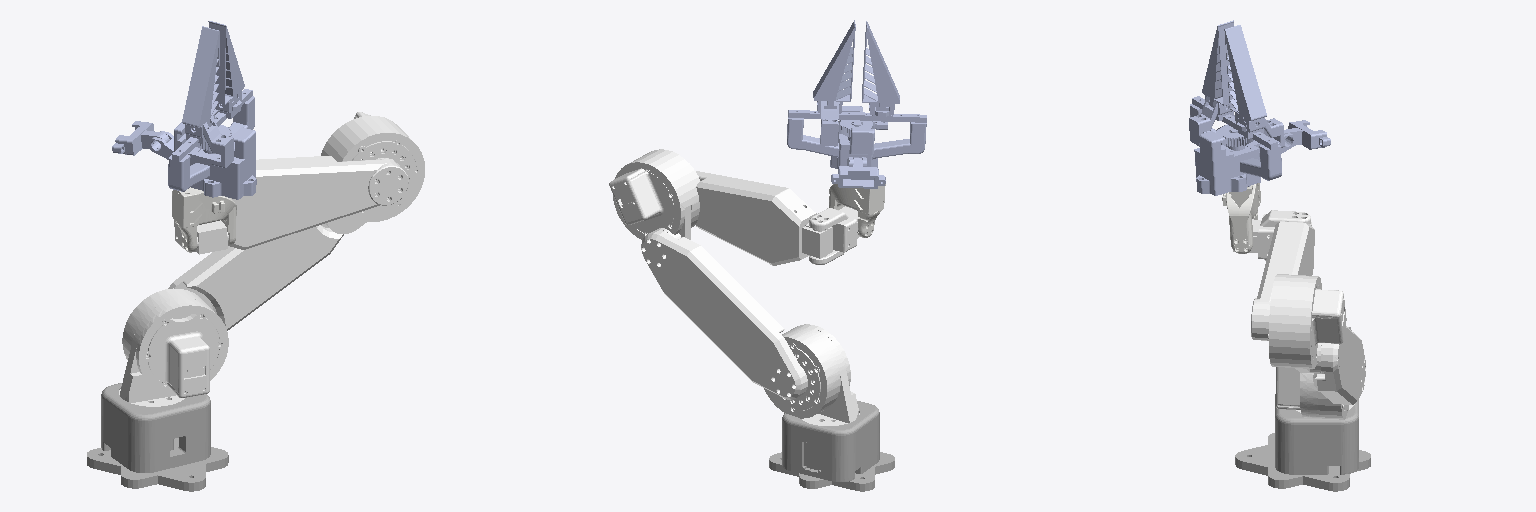
The robot description file, URDF, robot "arm2":
<?xml version='1.0' encoding='utf-8'?>
<robot name="arm2">
  <link name="base_footprint" />
  <joint name="base_footprint_joint" type="fixed">
    <origin xyz="0 0 0" rpy="1.5708 0 0" />
    <parent link="base_footprint" />
    <child link="base_link" />
  </joint>
  <link name="base_link">
    <inertial>
      <origin xyz="-0.0215242987876881 -0.0131790104845623 -0.000149948916607308" rpy="0 0 0" />
      <mass value="0.483544319339722" />
      <inertia ixx="0.000494852759995232" ixy="4.2668791100168E-08" ixz="-1.1258658481899E-09" iyy="0.000534193066140505" iyz="6.5369387836177E-06" izz="0.000816965934487286" />
    </inertial>
    <visual>
      <origin xyz="0 0 0" rpy="0 0 0" />
      <geometry>
        <mesh filename="package://arm2/meshes/base_link.STL" />
      </geometry>
      <material name="base_link_material">
        <color rgba="0.752941176470588 0.752941176470588 0.752941176470588 1" />
      </material>
    </visual>
    <collision>
      <origin xyz="0 0 0" rpy="0 0 0" />
      <geometry>
        <mesh filename="package://arm2/meshes/base_link.STL" />
      </geometry>
    </collision>
  </link>
  <link name="link1">
    <inertial>
      <origin xyz="0.0241520520017499 -0.00141909268273551 0.0478800995882206" rpy="0 0 0" />
      <mass value="0.40270151201717" />
      <inertia ixx="0.000351900327347102" ixy="2.01834812543338E-05" ixz="-5.54108275309773E-05" iyy="0.000571126787742499" iyz="-8.55920511339969E-06" izz="0.000314804529935143" />
    </inertial>
    <visual>
      <origin xyz="0 0 0" rpy="0 0 0" />
      <geometry>
        <mesh filename="package://arm2/meshes/link1.STL" />
      </geometry>
      <material name="link1_material">
        <color rgba="1 1 1 1" />
      </material>
    </visual>
    <collision>
      <origin xyz="0 0 0" rpy="0 0 0" />
      <geometry>
        <mesh filename="package://arm2/meshes/link1.STL" />
      </geometry>
    </collision>
  </link>
  <joint name="joint_1" type="revolute">
    <origin xyz="-0.021526 0.0357 -0.020587" rpy="-1.5708 0 0" />
    <parent link="base_link" />
    <child link="link1" />
    <axis xyz="0 0 -1" />
    <limit lower="-3.14159" upper="3.14159" effort="1" velocity="1" />
  </joint>
  <link name="link2">
    <inertial>
      <origin xyz="-0.106292845126651 0.155568361927461 0.00811758468438179" rpy="0 0 0" />
      <mass value="0.806930838704802" />
      <inertia ixx="0.00149996894110265" ixy="0.000639553935011896" ixz="2.22661555276447E-05" iyy="0.000884368466636659" iyz="-2.4183025923644E-05" izz="0.0022471044154184" />
    </inertial>
    <visual>
      <origin xyz="0 0 0" rpy="0 0 0" />
      <geometry>
        <mesh filename="package://arm2/meshes/link2.STL" />
      </geometry>
      <material name="link2_material">
        <color rgba="1 1 1 1" />
      </material>
    </visual>
    <collision>
      <origin xyz="0 0 0" rpy="0 0 0" />
      <geometry>
        <mesh filename="package://arm2/meshes/link2.STL" />
      </geometry>
    </collision>
  </link>
  <joint name="joint_2" type="revolute">
    <origin xyz="0.032026 0.02797 0.055" rpy="1.7049 1.5708 0" />
    <parent link="link1" />
    <child link="link2" />
    <axis xyz="0 0 -1" />
    <limit lower="-3.14159" upper="3.14159" effort="1" velocity="1" />
  </joint>
  <link name="link3">
    <inertial>
      <origin xyz="-0.115933758646199 -0.00199601775208566 0.00278323027528818" rpy="0 0 0" />
      <mass value="0.483043742762149" />
      <inertia ixx="0.000249478963611118" ixy="-1.75982805703716E-05" ixz="-5.67479676612688E-05" iyy="0.00130945242252382" iyz="-9.645285338208E-07" izz="0.00145534006888226" />
    </inertial>
    <visual>
      <origin xyz="0 0 0" rpy="0 0 0" />
      <geometry>
        <mesh filename="package://arm2/meshes/link3.STL" />
      </geometry>
      <material name="link3_material">
        <color rgba="1 1 1 1" />
      </material>
    </visual>
    <collision>
      <origin xyz="0 0 0" rpy="0 0 0" />
      <geometry>
        <mesh filename="package://arm2/meshes/link3.STL" />
      </geometry>
    </collision>
  </link>
  <joint name="joint_3" type="revolute">
    <origin xyz="-0.1597 0.21679 0.051" rpy="0 0 1.5708" />
    <parent link="link2" />
    <child link="link3" />
    <axis xyz="0 0 1" />
    <limit lower="-3.14159" upper="3.14159" effort="1" velocity="1" />
  </joint>
  <link name="link4">
    <inertial>
      <origin xyz="-0.00447189918405377 0.0341736668010499 -0.0191372424307727" rpy="0 0 0" />
      <mass value="0.0773373041158097" />
      <inertia ixx="2.66026152581047E-05" ixy="3.87896842273103E-07" ixz="1.5244788379673E-08" iyy="2.31513045068287E-05" iyz="-1.15883309086803E-07" izz="2.15148610432948E-05" />
    </inertial>
    <visual>
      <origin xyz="0 0 0" rpy="0 0 0" />
      <geometry>
        <mesh filename="package://arm2/meshes/link4.STL" />
      </geometry>
      <material name="link4_material">
        <color rgba="1 1 1 1" />
      </material>
    </visual>
    <collision>
      <origin xyz="0 0 0" rpy="0 0 0" />
      <geometry>
        <mesh filename="package://arm2/meshes/link4.STL" />
      </geometry>
    </collision>
  </link>
  <joint name="joint_4" type="revolute">
    <origin xyz="-0.21565 -0.022356 0.001325" rpy="1.5708 0.1341 0.01717" />
    <parent link="link3" />
    <child link="link4" />
    <axis xyz="0 0 1" />
    <limit lower="-3.14159" upper="3.14159" effort="1" velocity="1" />
  </joint>
  <link name="link5">
    <inertial>
      <origin xyz="-0.00695655026448908 0.0344272833038976 -0.0267765716269588" rpy="0 0 0" />
      <mass value="0.0705977915940835" />
      <inertia ixx="3.47733773353957E-05" ixy="1.98874221614599E-06" ixz="-3.44747539973023E-07" iyy="2.54720417255265E-05" iyz="1.7264001900076E-06" izz="1.9787199019876E-05" />
    </inertial>
    <visual>
      <origin xyz="0 0 0" rpy="0 0 0" />
      <geometry>
        <mesh filename="package://arm2/meshes/link5.STL" />
      </geometry>
      <material name="link5_material">
        <color rgba="0.964705882352941 0.964705882352941 0.952941176470588 1" />
      </material>
    </visual>
    <collision>
      <origin xyz="0 0 0" rpy="0 0 0" />
      <geometry>
        <mesh filename="package://arm2/meshes/link5.STL" />
      </geometry>
    </collision>
  </link>
  <joint name="joint_5" type="revolute">
    <origin xyz="0.01096 0.061468 -0.019175" rpy="-1.5708 -0.12906 -1.4393" />
    <parent link="link4" />
    <child link="link5" />
    <axis xyz="0 0 -1" />
    <limit lower="-3.14159" upper="3.14159" effort="1" velocity="1" />
  </joint>
  <link name="link6">
    <inertial>
      <origin xyz="0.00172502134675802 -0.00128544012397952 0.0584136608139078" rpy="0 0 0" />
      <mass value="0.301754598181595" />
      <inertia ixx="0.000168936551172868" ixy="-5.6664886214393E-05" ixz="1.53587092378659E-06" iyy="0.000231345512056409" iyz="-3.19683134811072E-06" izz="0.000259296851659838" />
    </inertial>
    <visual>
      <origin xyz="0 0 0" rpy="0 0 0" />
      <geometry>
        <mesh filename="package://arm2/meshes/link6.STL" />
      </geometry>
      <material name="link6_material">
        <color rgba="0.792156862745098 0.819607843137255 0.933333333333333 1" />
      </material>
    </visual>
    <collision>
      <origin xyz="0 0 0" rpy="0 0 0" />
      <geometry>
        <mesh filename="package://arm2/meshes/link6.STL" />
      </geometry>
    </collision>
  </link>
  <joint name="joint_6" type="revolute">
    <origin xyz="-0.011776 0.059674 -0.01935" rpy="-1.5708 -1.4407 0.19525" />
    <parent link="link5" />
    <child link="link6" />
    <axis xyz="0 0 -1" />
    <limit lower="-3.14159" upper="3.14159" effort="1" velocity="1" />
  </joint>
</robot>

--- Render facts (derived) ---
3 views of the same robot in one strip: view 1: azimuth 30°, elevation 25°; view 2: azimuth 150°, elevation 25°; view 3: azimuth 270°, elevation 25° (orthographic).
Robot: arm2 — 8 links, 7 joints (6 revolute, 1 fixed); root link base_footprint; default pose: every joint at zero.
Visible links, largest first — view 1: link2, link6, link3, base_link, link1, link5, link4; view 2: link2, link6, link3, base_link, link1, link4, link5; view 3: link6, link2, base_link, link3, link1, link5, link4.
Boxes of the visible links, x1,y1,x2,y2 form: link2: [168, 112, 424, 330]; link6: [112, 21, 256, 199]; link3: [174, 156, 408, 249]; base_link: [87, 383, 228, 491]; link1: [119, 288, 228, 406]; link5: [172, 187, 236, 252]; link4: [175, 220, 228, 254]; link2: [609, 149, 807, 399]; link6: [787, 20, 926, 188]; link3: [696, 171, 832, 265]; base_link: [769, 401, 894, 491]; link1: [764, 324, 859, 425]; link4: [809, 206, 860, 264]; link5: [829, 184, 885, 237]; link6: [1189, 20, 1330, 195]; link2: [1268, 274, 1365, 404]; base_link: [1235, 394, 1370, 491]; link3: [1251, 221, 1314, 340]; link1: [1276, 327, 1354, 419]; link5: [1222, 183, 1260, 253]; link4: [1233, 210, 1310, 260].
Size in the robot's own frame: 0.3642 by 0.1959 by 0.5278 metres.
Meshes: 7 distinct files referenced, 7 mesh visuals loaded (7 binary STL).
